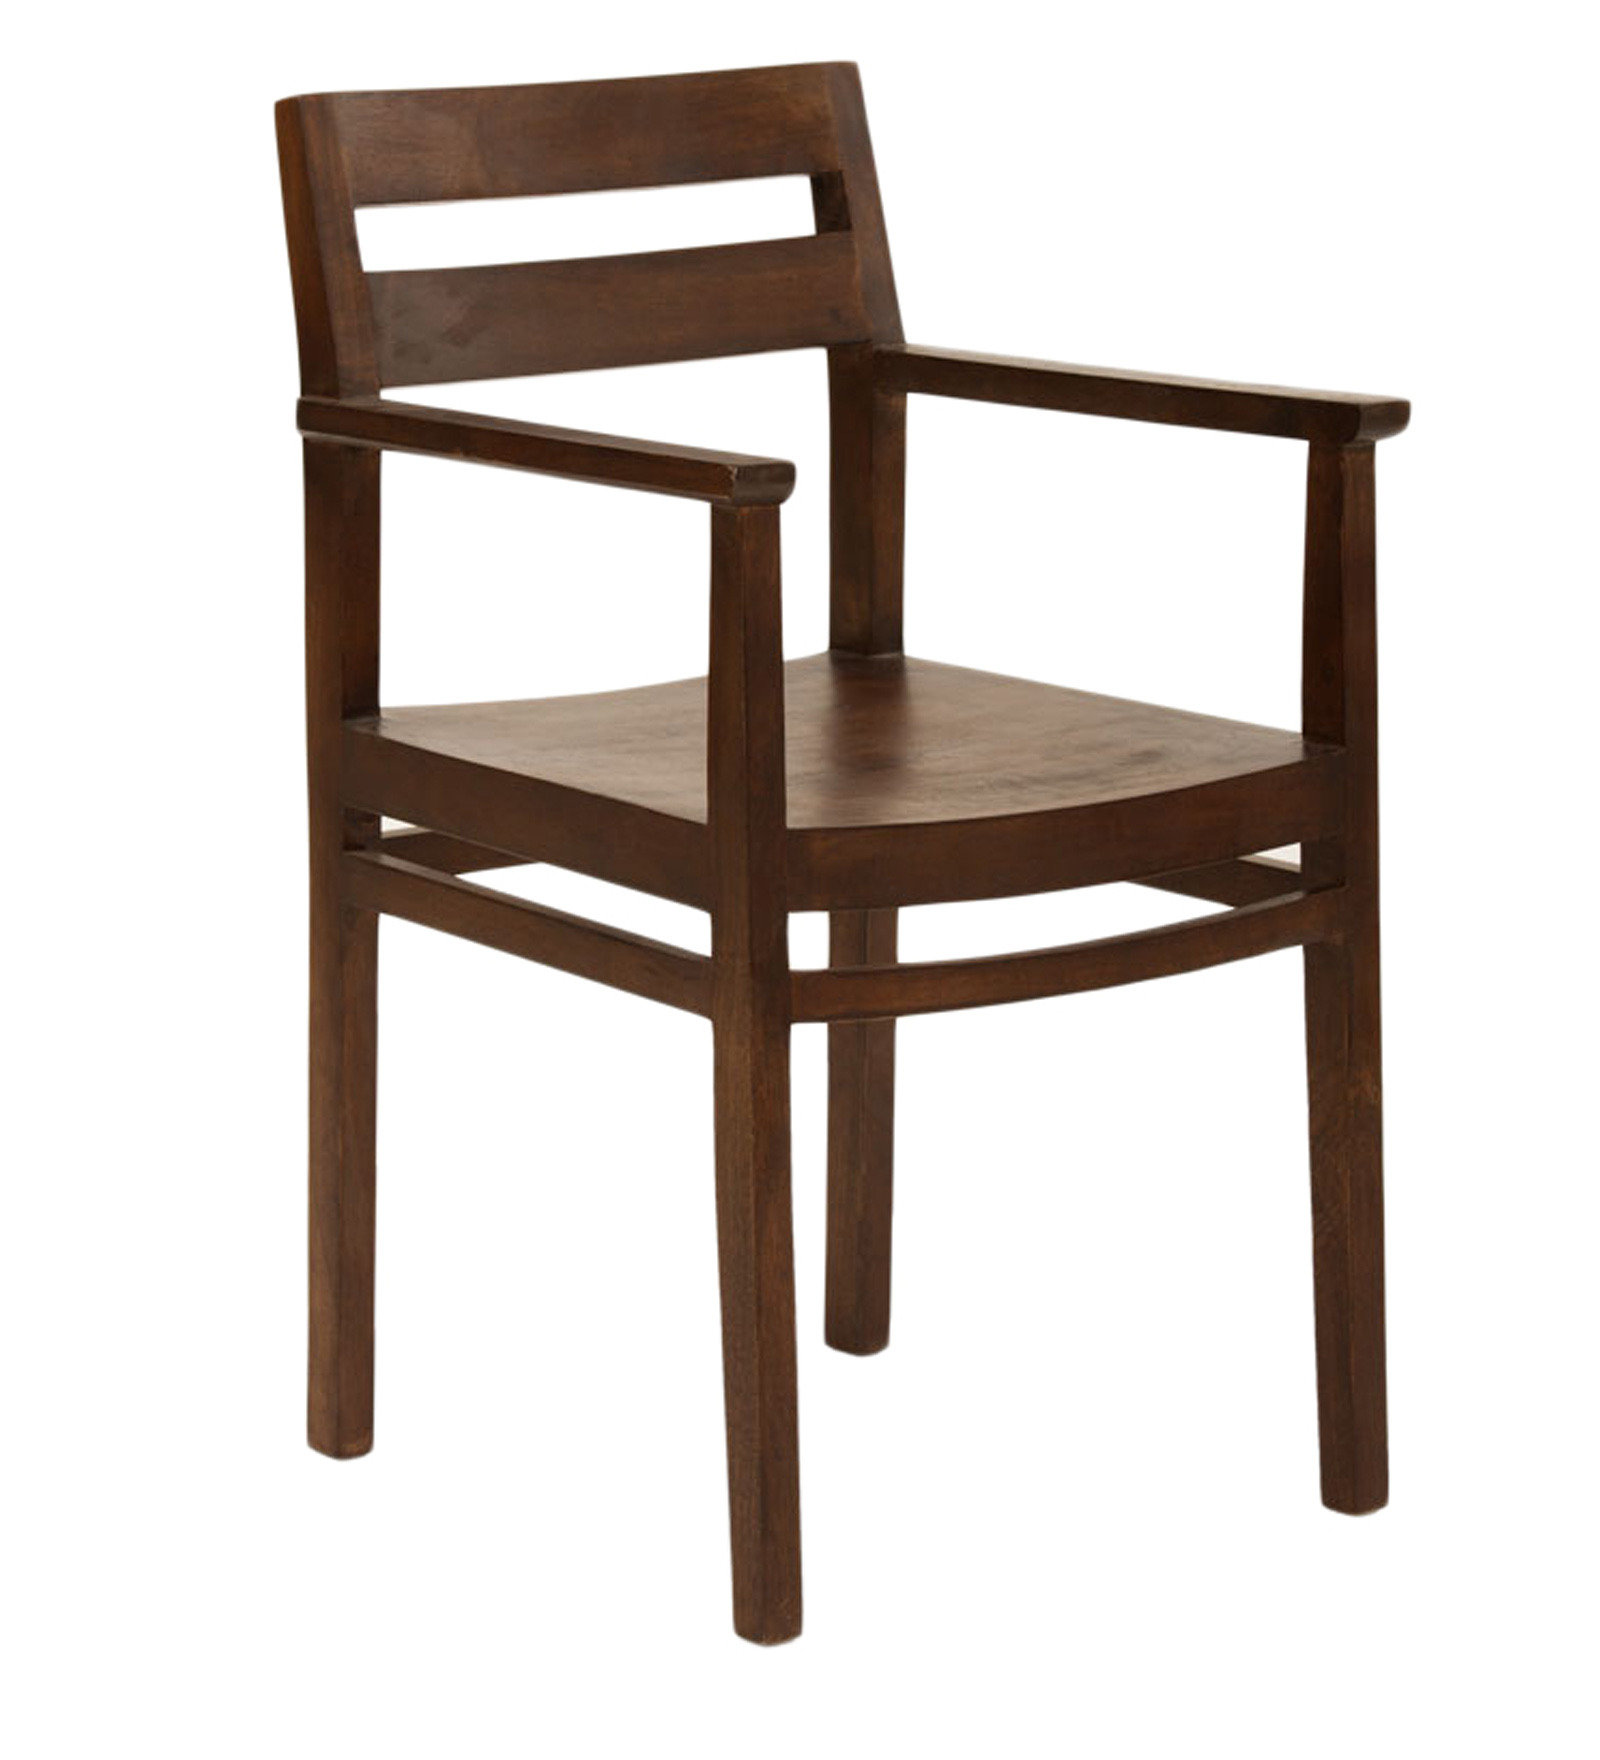Barcelona Solid Wood Arm Chair in Provincial Teak Finish by TheArmchair: (190, 48, 1401, 1657)
